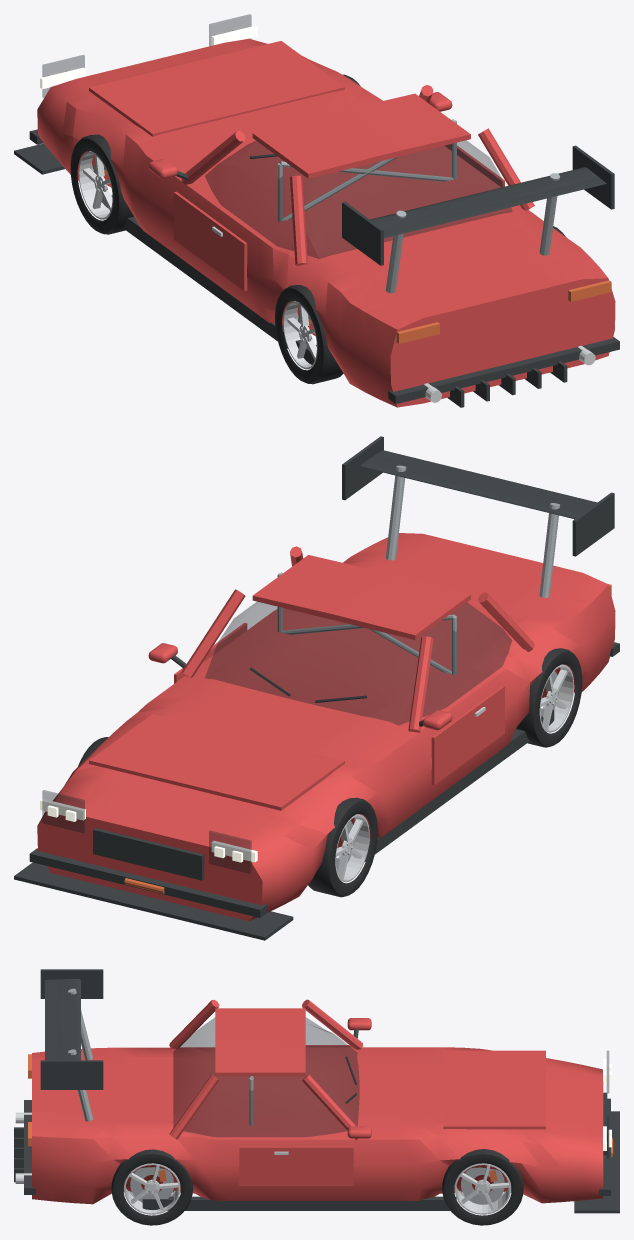
File: gt_front.glb
3 views of the same model, one above another, from view 1: azimuth 30°, elevation 25°; view 2: azimuth 150°, elevation 25°; view 3: azimuth 270°, elevation 25° (orthographic). The views are drawn at different scales.
Visible parts, largest first — view 1: Body, Wheel_RL, Wheel_FL; view 2: Body, Wheel_FL, Wheel_RL; view 3: Body, Wheel_FR, Wheel_RR.
Boxes of the visible parts, x1,y1,x2,y2 form: Body: (14,14,619,407); Wheel_RL: (275,285,343,384); Wheel_FL: (70,134,133,234); Body: (14,436,619,940); Wheel_FL: (308,797,377,897); Wheel_RL: (516,648,582,747); Body: (14,969,619,1213); Wheel_FR: (442,1149,523,1225); Wheel_RR: (111,1149,192,1225).
Bounding box in the file's own units: 2.27 × 1.47 × 5.04.
